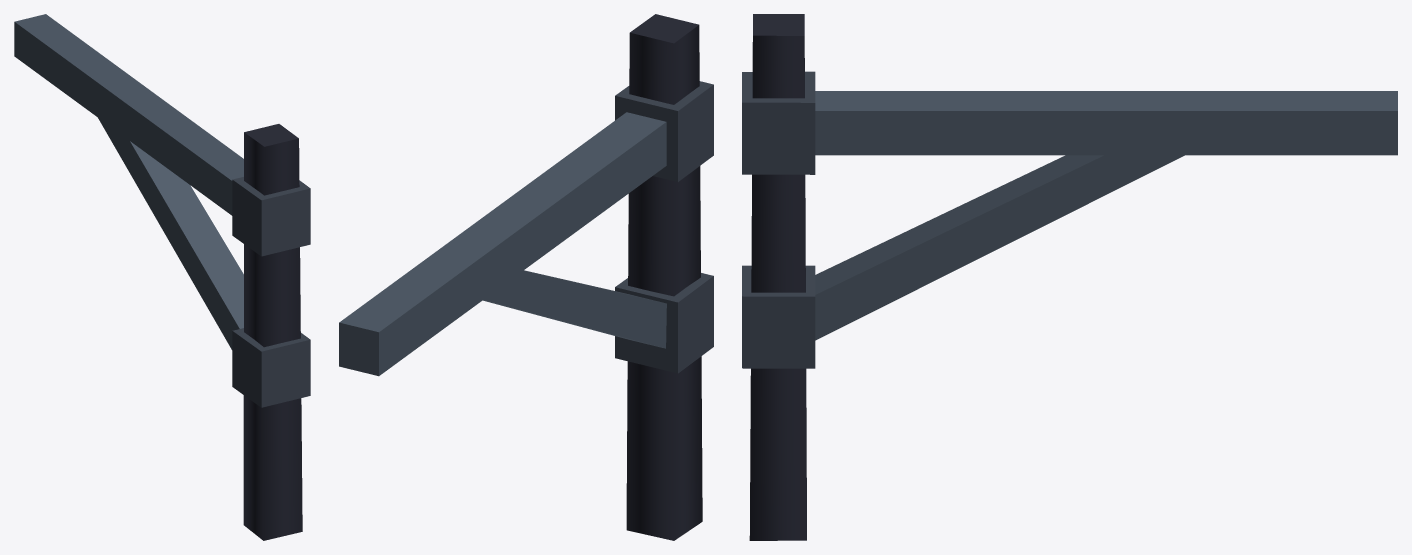
The model's file is SignHolder_6_E.glb.
3 views of the same model, side by side, from view 1: azimuth 30°, elevation 25°; view 2: azimuth 150°, elevation 25°; view 3: azimuth 270°, elevation 25° (orthographic). The views are drawn at different scales.
Visible parts, largest first — view 1: SignHolder_6_E; view 2: SignHolder_6_E; view 3: SignHolder_6_E.
Part boxes in pixels (x1=…): SignHolder_6_E: x1=14, y1=14, x2=310, y2=540; SignHolder_6_E: x1=339, y1=14, x2=713, y2=540; SignHolder_6_E: x1=742, y1=14, x2=1397, y2=540.
Bounding box in the file's own units: 0.078 × 0.587 × 0.6926.
2 materials, 2 textured.
